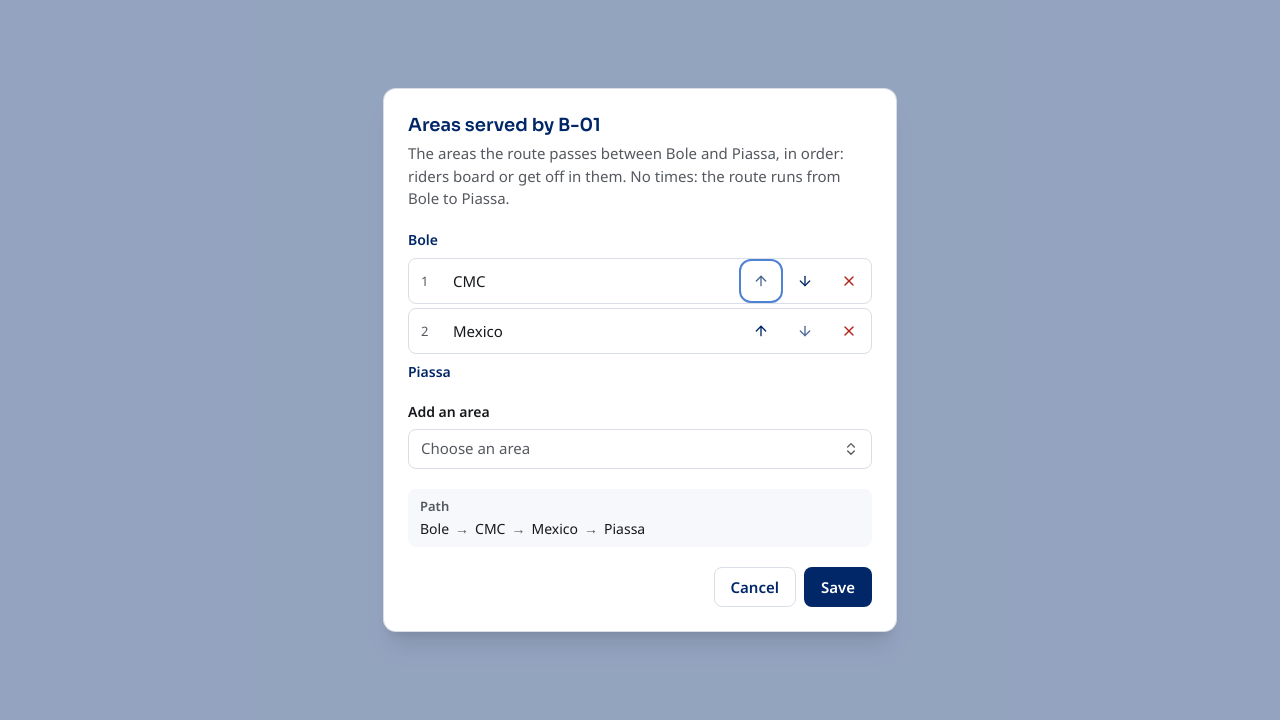
Test: RouteAreasDialog › reloads the route once the dialog closes after the API refused the list
Later steps or results of the test are not shown.
Click the dropdown named "Add an area" at coordinates (476, 448), box [408,428,872,468]
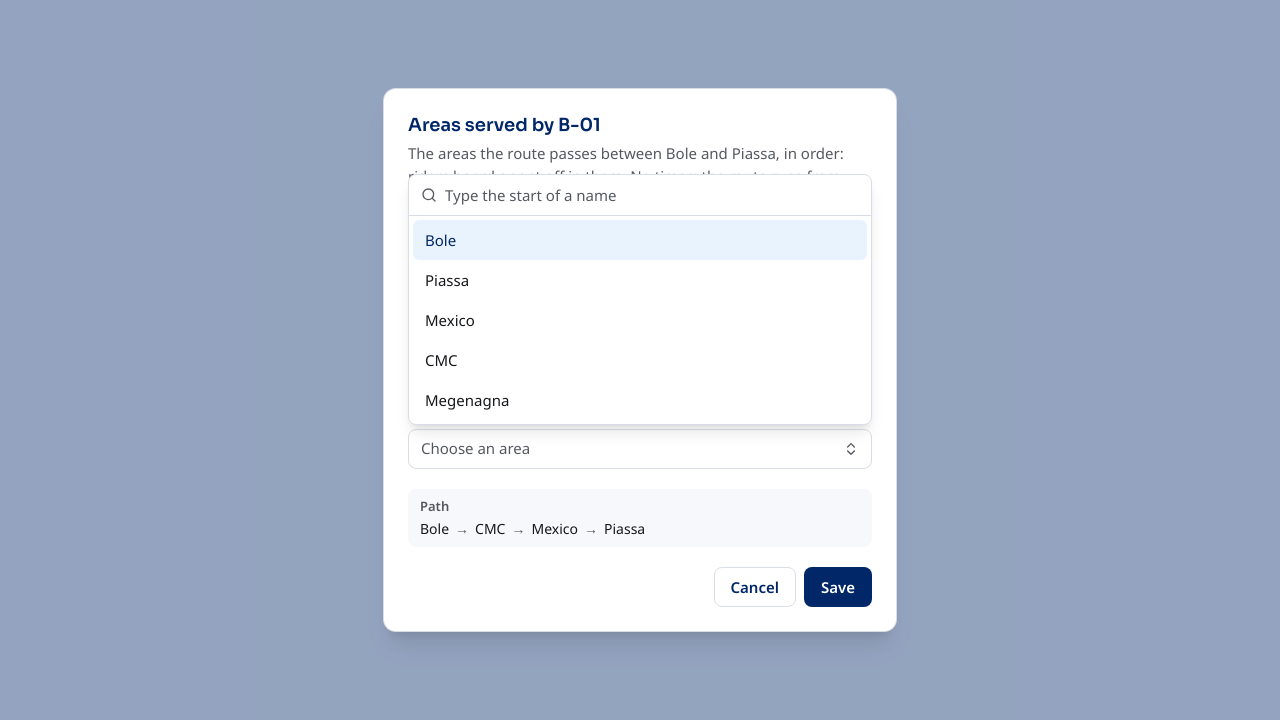
Type "Meg" into the dropdown named "Search areas" at coordinates (652, 195), box [445,175,859,215]
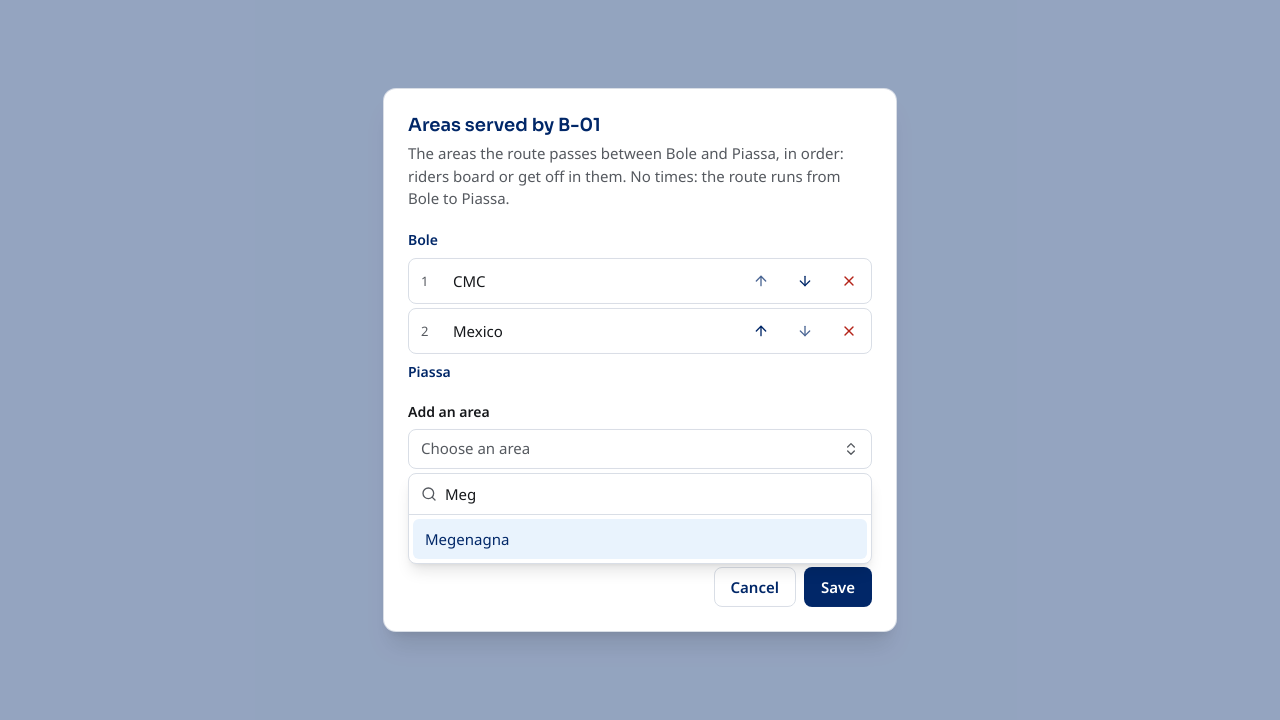
Click the option "Megenagna" at coordinates (467, 539), box [413,519,867,559]
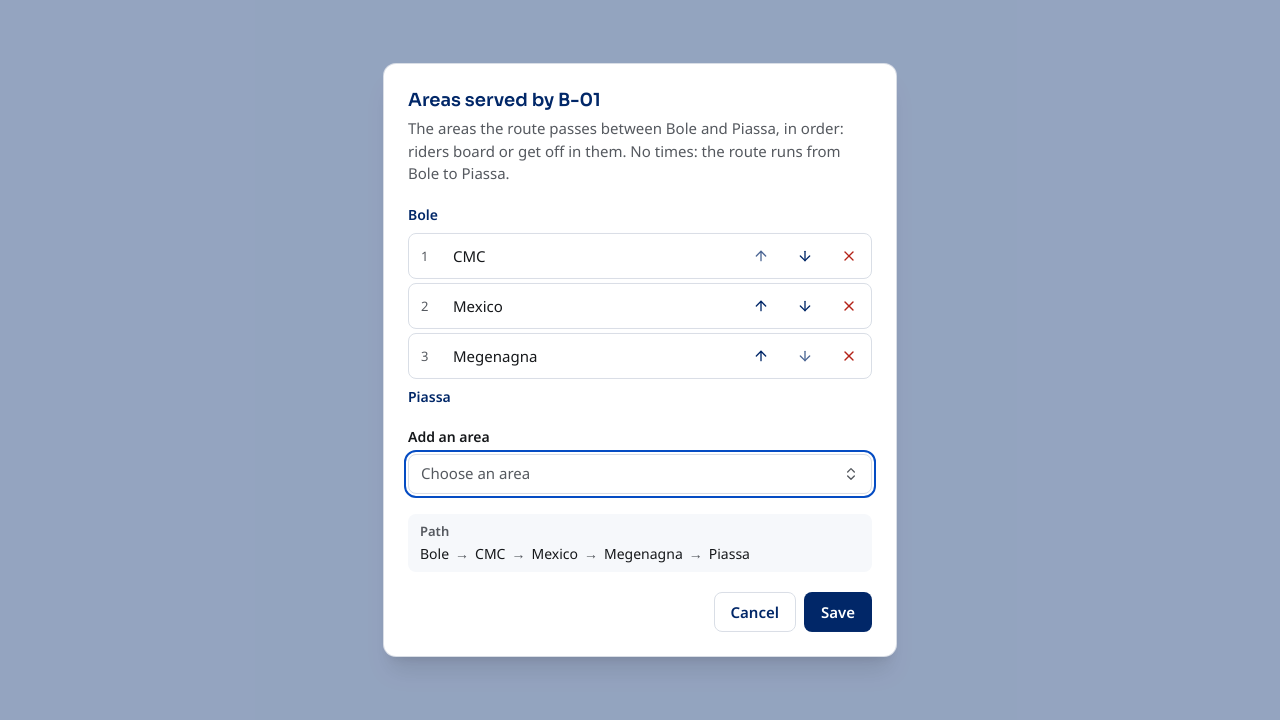
Click the button "Save" at coordinates (838, 612), box [804,592,872,632]
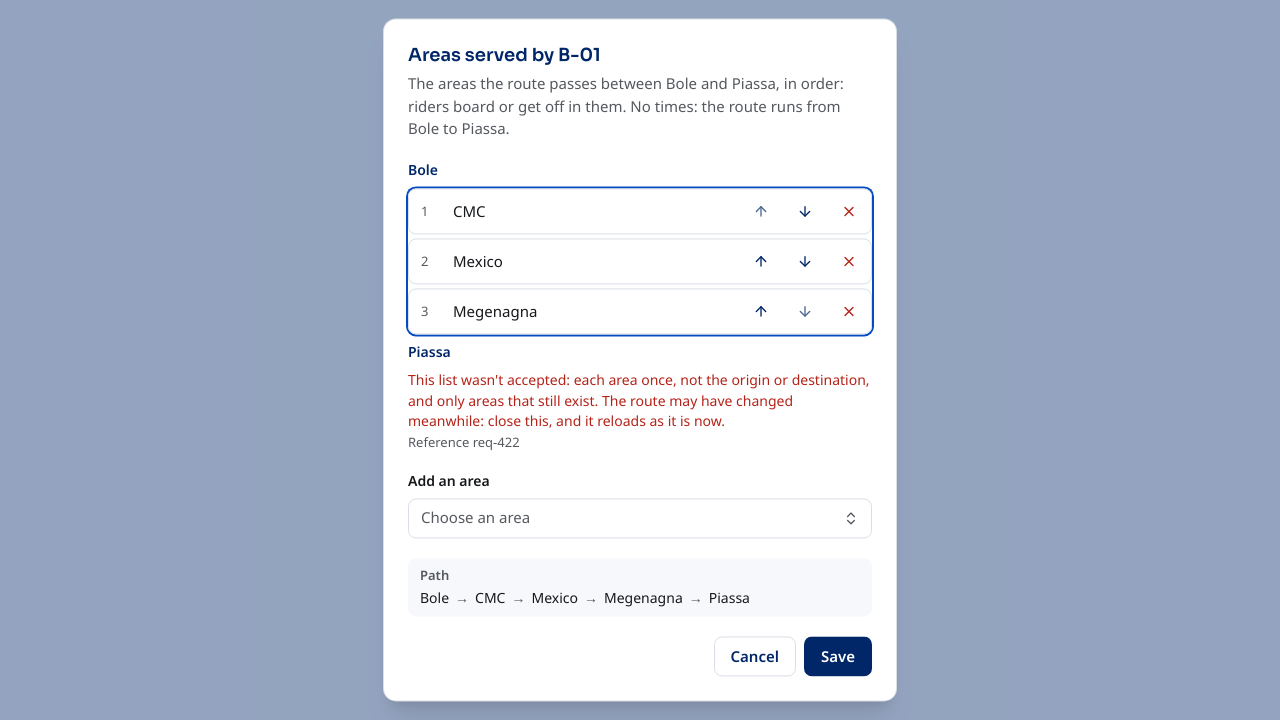
Result: the text "This list wasn't accepted: each area once, not the origin or destination, and only areas that still exist. The route may" is shown at [408,371,870,430]
